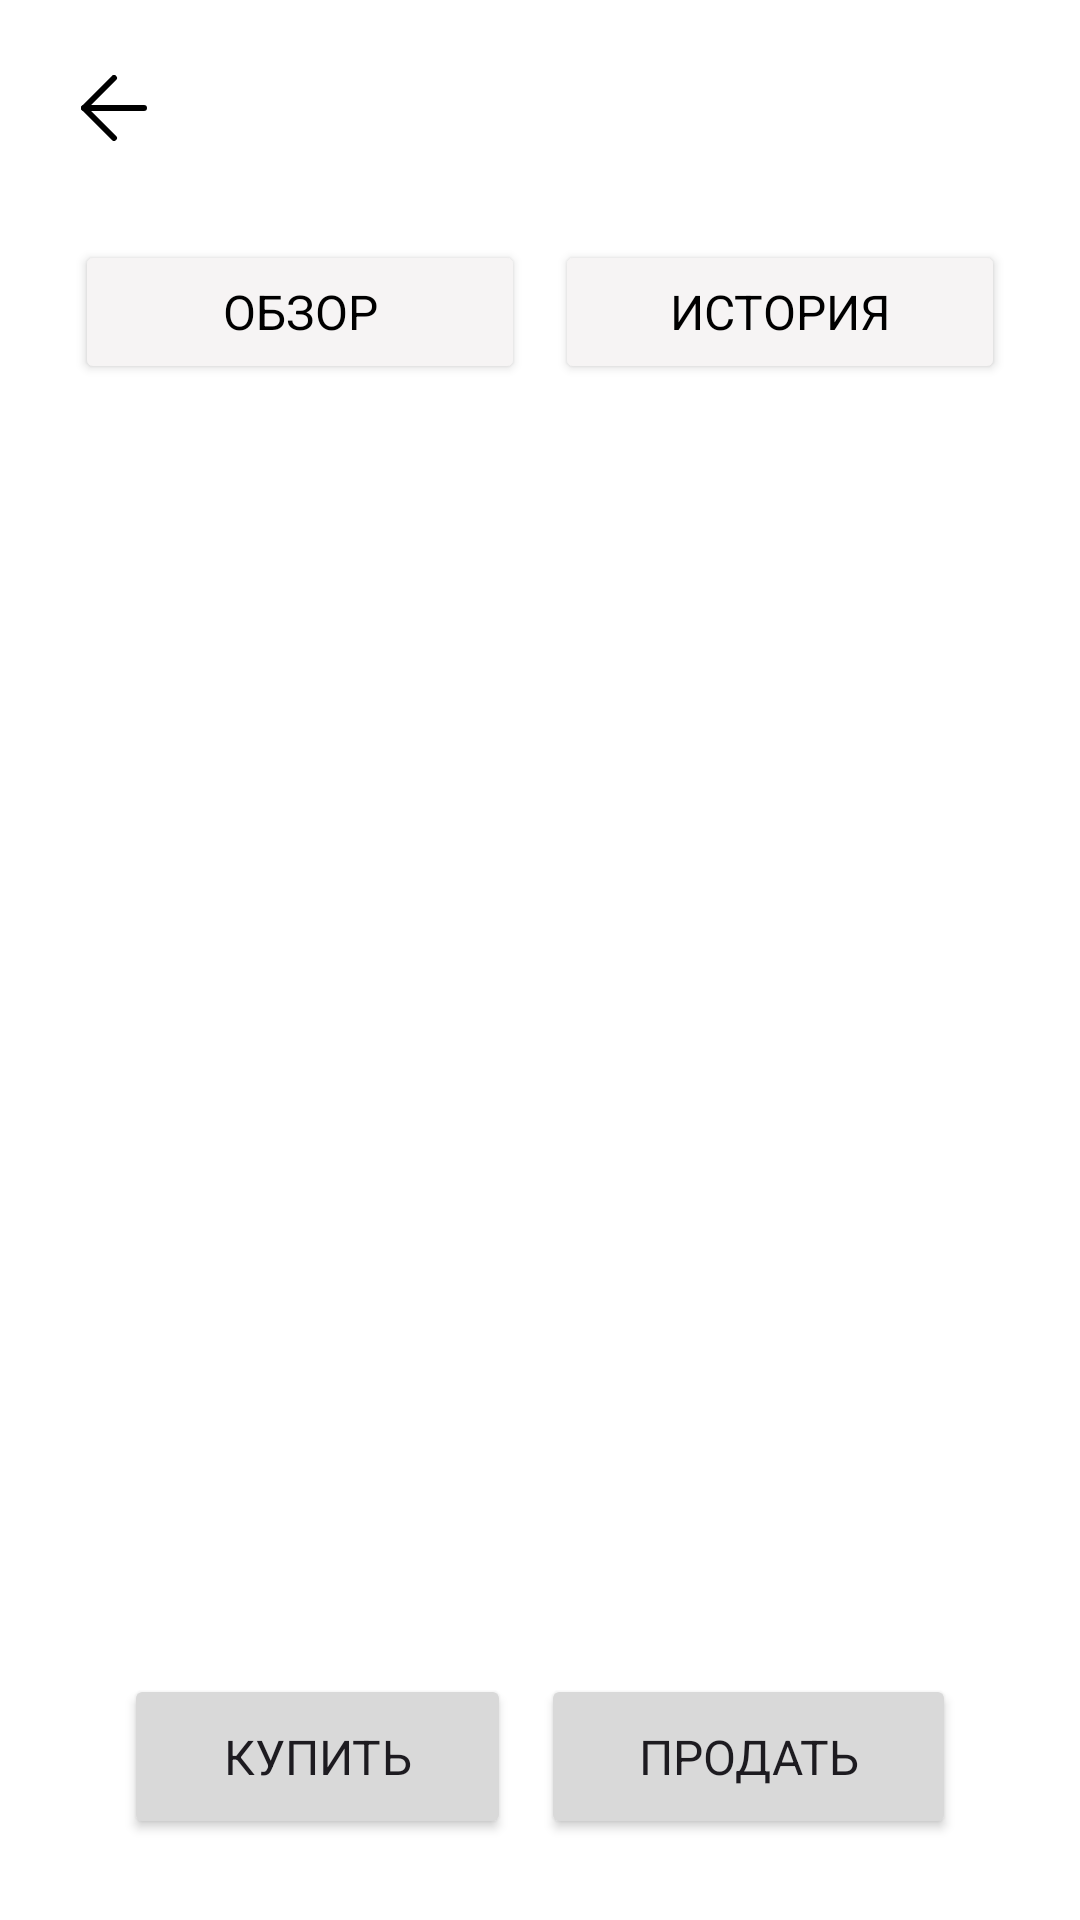

Locate icon controls on the screen. Image size 1080 × 1920, boxes as (left=x1, top=y1, right=x2, bottom=y2).
arrow left: (left=81, top=75, right=147, bottom=141)
